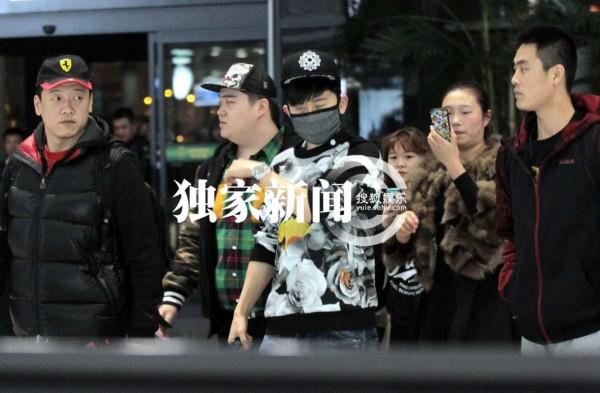NONE: (46, 88, 91, 135), (510, 59, 552, 108), (217, 96, 257, 140), (443, 104, 482, 141), (387, 148, 424, 185), (116, 120, 134, 144)
OK: (290, 95, 340, 145)
